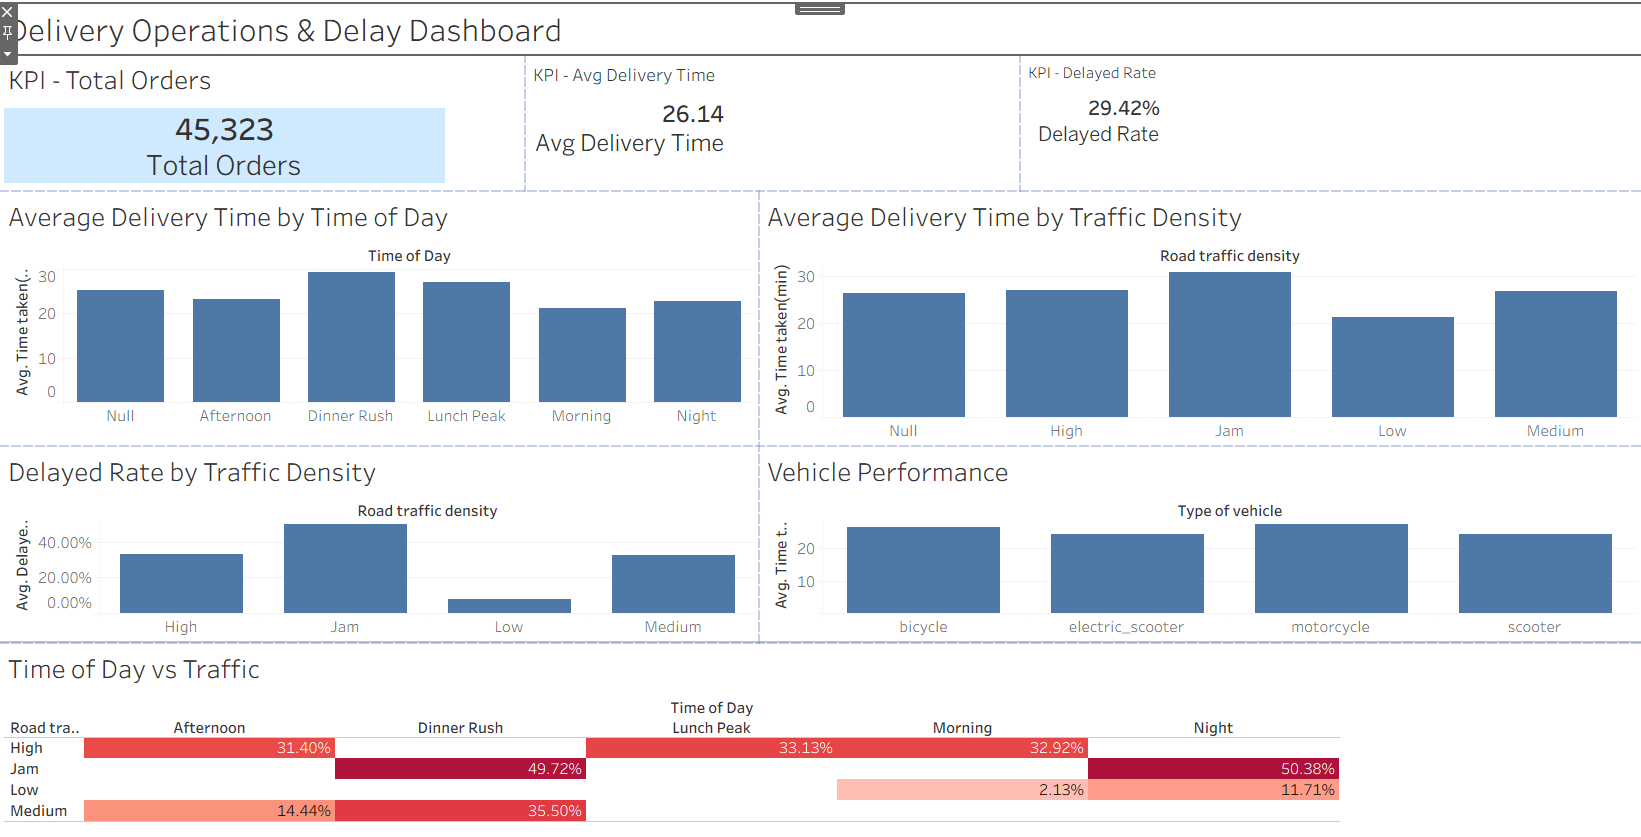

The page's visual inventory and layout, read from the dashboard file:
{"tool":"tableau","page":{"name":"Delivery Operations & Delay Dashboard","canvas":[1000,1000],"units":"permille","ordinal":0},"visuals":[{"type":"title","box":[4.8,9.4,990.3,58.8]},{"type":"worksheet","title":"KPI - Total Orders","mark":"Automatic","box":[4.8,68.2,316.8,161]},{"type":"worksheet","title":"KPI - Avg Delivery Time","mark":"Automatic","box":[321.7,68.2,298.7,161]},{"type":"worksheet","title":"KPI - Delayed Rate","mark":"Automatic","box":[620.4,68.2,374.8,161]},{"type":"worksheet","title":"Average Delivery Time by Time of Day","mark":"Automatic","rows":["Time_taken(min)"],"cols":["Time_of_Day"],"box":[4.8,229.1,458.1,300.2]},{"type":"worksheet","title":"Average Delivery Time by Traffic Density","mark":"Automatic","rows":["Time_taken(min)"],"cols":["Road_traffic_density"],"box":[462.9,229.1,532.3,300.2]},{"type":"worksheet","title":"Delayed Rate by Traffic Density","mark":"Automatic","rows":["Calculation_0321929986514944"],"cols":["Road_traffic_density"],"box":[4.8,529.4,458.1,230.6]},{"type":"worksheet","title":"Vehicle Performance","mark":"Automatic","rows":["Time_taken(min)"],"cols":["Type_of_vehicle"],"box":[462.9,529.4,532.3,230.6]},{"type":"worksheet","title":"Time of Day vs Traffic","mark":"Square","rows":["Road_traffic_density"],"cols":["Time_of_Day"],"box":[4.8,760,990.3,230.6]}]}

Visuals, with their boxes on the dashboard's canvas, which has no fixed pixel size, in thousandths of its width and height (x1, y1, x2, y2). These are canvas units, not pixel positions in the 1641x837 screenshot, which may show the page scaled, cropped or inside an application window:
title: [5,9,995,68]
"KPI - Total Orders" worksheet: [5,68,322,229]
"KPI - Avg Delivery Time" worksheet: [322,68,620,229]
"KPI - Delayed Rate" worksheet: [620,68,995,229]
"Average Delivery Time by Time of Day" worksheet: [5,229,463,529]
"Average Delivery Time by Traffic Density" worksheet: [463,229,995,529]
"Delayed Rate by Traffic Density" worksheet: [5,529,463,760]
"Vehicle Performance" worksheet: [463,529,995,760]
"Time of Day vs Traffic" worksheet (Square marks): [5,760,995,991]
